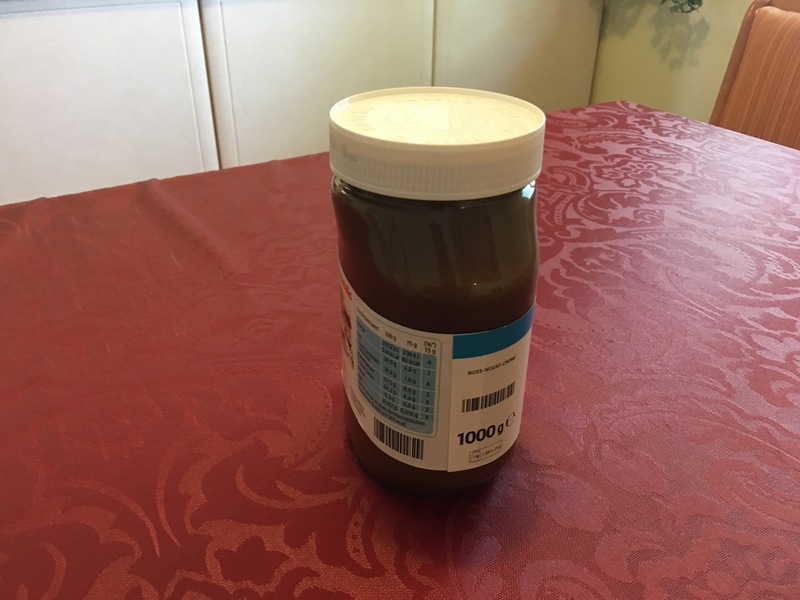nutella: (327, 85, 546, 508)
